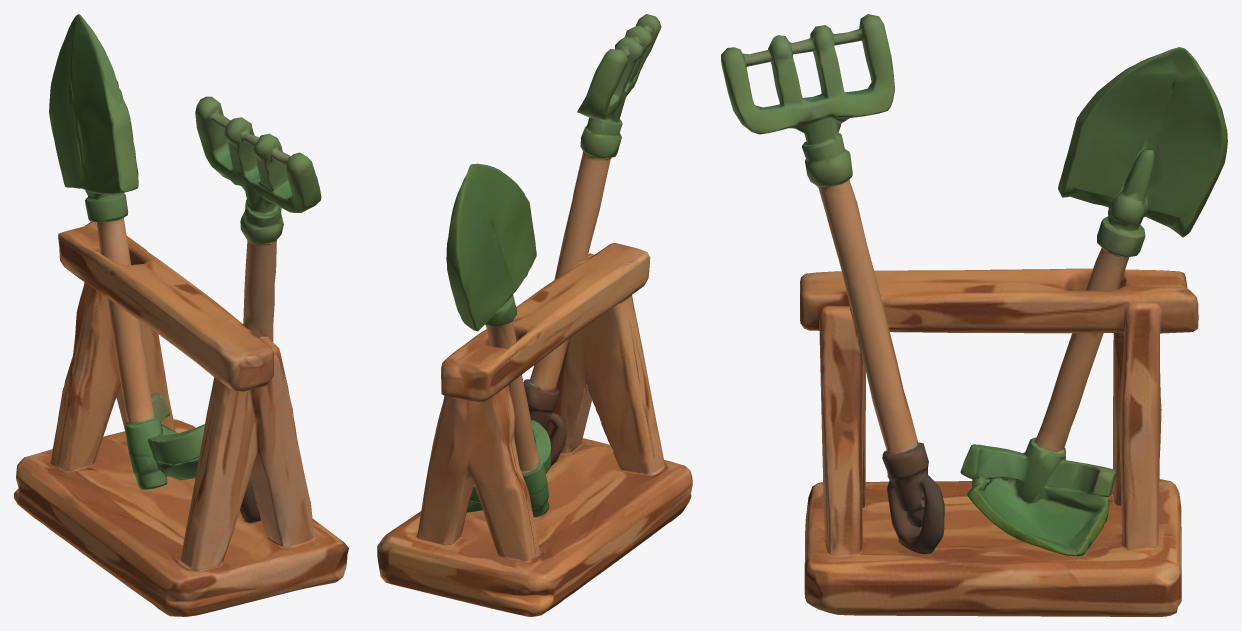
Rendered from toolRack.glb.
3 views of the same model, side by side, from view 1: azimuth 30°, elevation 25°; view 2: azimuth 150°, elevation 25°; view 3: azimuth 270°, elevation 25° (orthographic). The views are drawn at different scales.
Visible parts, largest first — view 1: tripo_node_95d8d5ec-8db3-4c23-a99f-6a510cfbf2cb; view 2: tripo_node_95d8d5ec-8db3-4c23-a99f-6a510cfbf2cb; view 3: tripo_node_95d8d5ec-8db3-4c23-a99f-6a510cfbf2cb.
Part boxes in pixels (x1,y1,x2,y2): tripo_node_95d8d5ec-8db3-4c23-a99f-6a510cfbf2cb: (14, 14, 348, 616); tripo_node_95d8d5ec-8db3-4c23-a99f-6a510cfbf2cb: (377, 14, 692, 616); tripo_node_95d8d5ec-8db3-4c23-a99f-6a510cfbf2cb: (721, 14, 1227, 616).
Bounding box in the file's own units: 0.3823 × 1 × 0.8406.
1 material, 1 textured.
